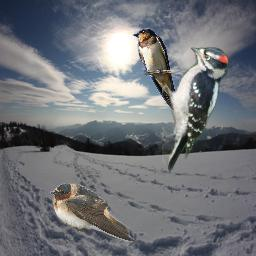Swallow: (50, 183, 136, 242), (132, 28, 183, 113)
Woodpecker: (162, 43, 230, 175)
